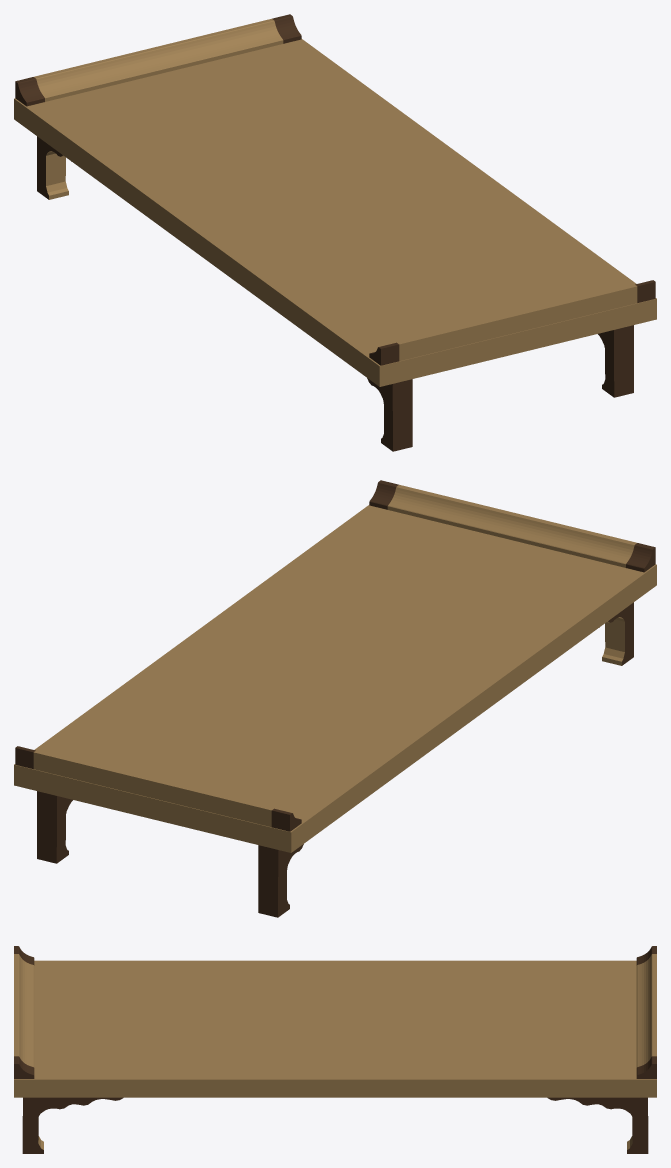
File: Table Yukiko.fbx
The picture shows the model from 3 angles, top to bottom: view 1: azimuth 30°, elevation 25°; view 2: azimuth 150°, elevation 25°; view 3: azimuth 270°, elevation 25°; orthographic projection. The views are drawn at different scales.
Visible parts, largest first — view 1: Cube.009; view 2: Cube.009; view 3: Cube.009.
Boxes of the visible parts, box(x1,y1,x2,y2) form: Cube.009: box(14, 14, 656, 451); Cube.009: box(14, 480, 656, 917); Cube.009: box(14, 946, 656, 1153).
Size of the model in its own units: 70 by 26.66 by 160.
